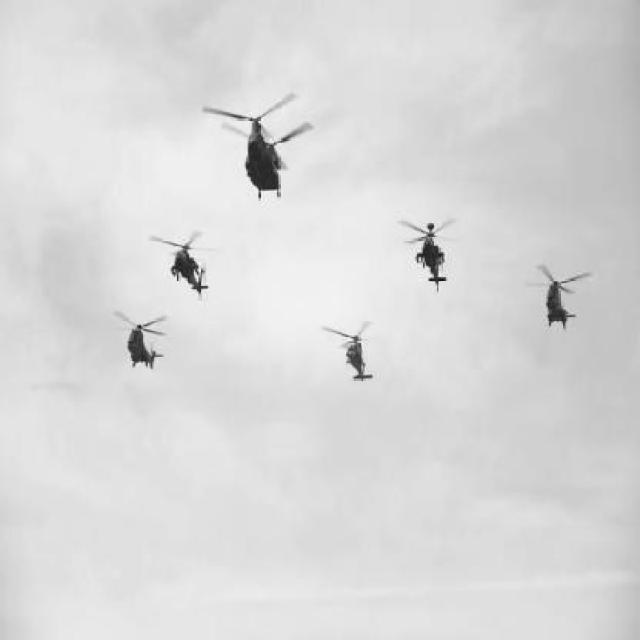Helicopter: (201, 91, 316, 200), (397, 217, 463, 296), (525, 263, 596, 332), (149, 231, 215, 302), (318, 318, 382, 384), (112, 311, 169, 369)
